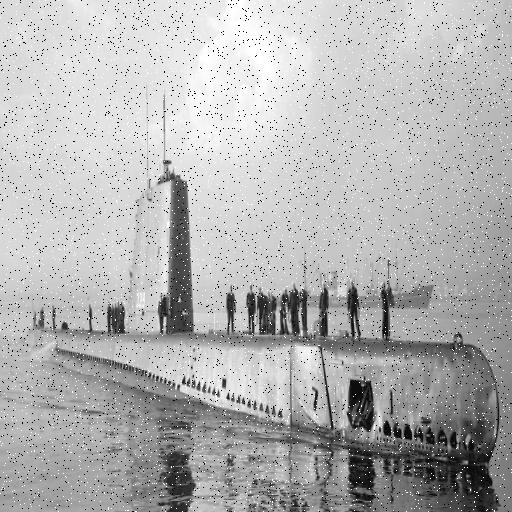submarine: (23, 81, 500, 465)
